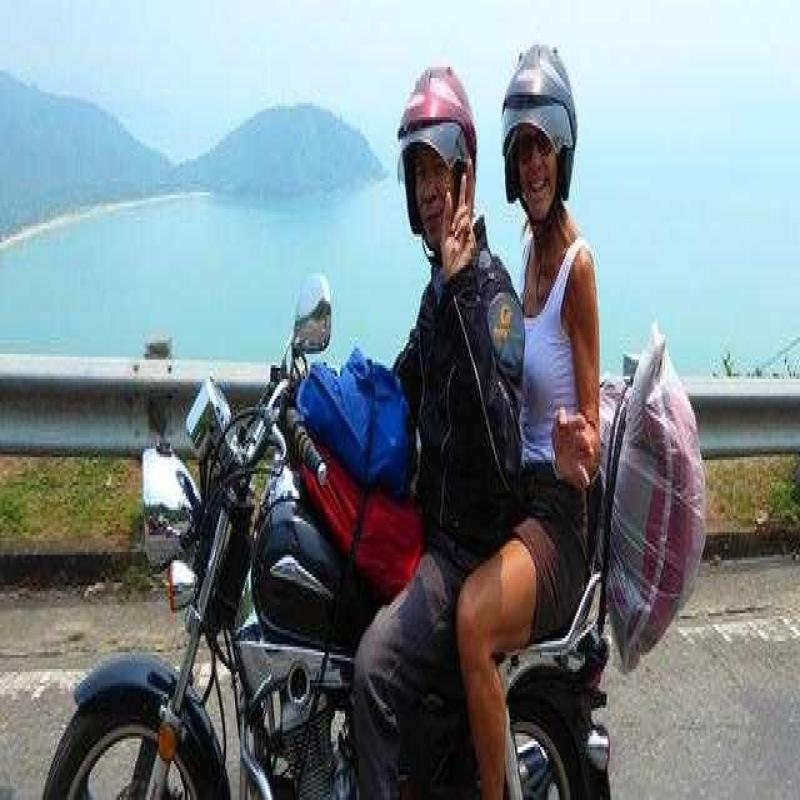bike: (53, 273, 632, 800)
